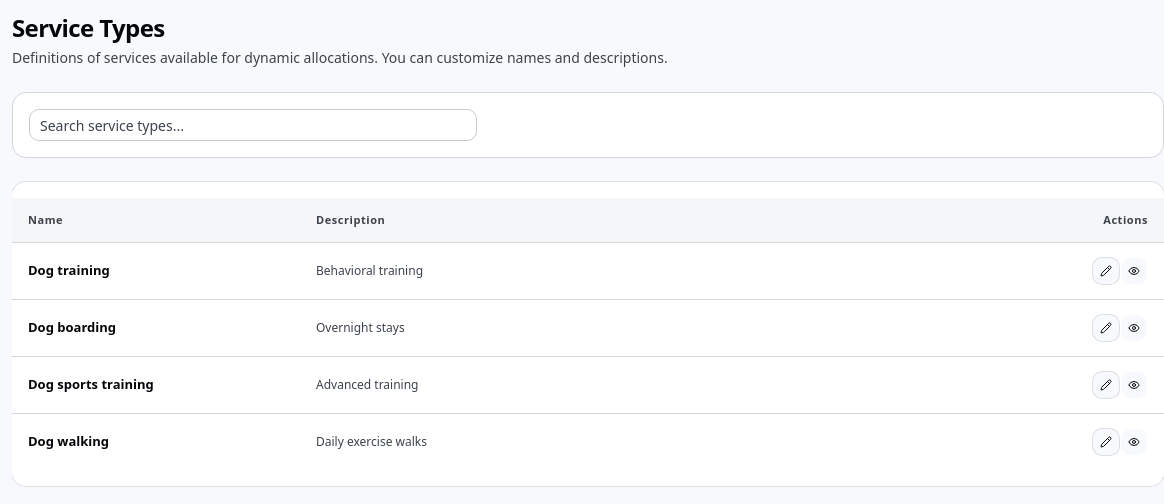
Test: ServiceTypesTable Component › should filter service types based on search input (case insensitive)
// Search for "walk"
In the field with placeholder "Search service types...": (253, 125) [29, 109, 477, 141], type "walk"
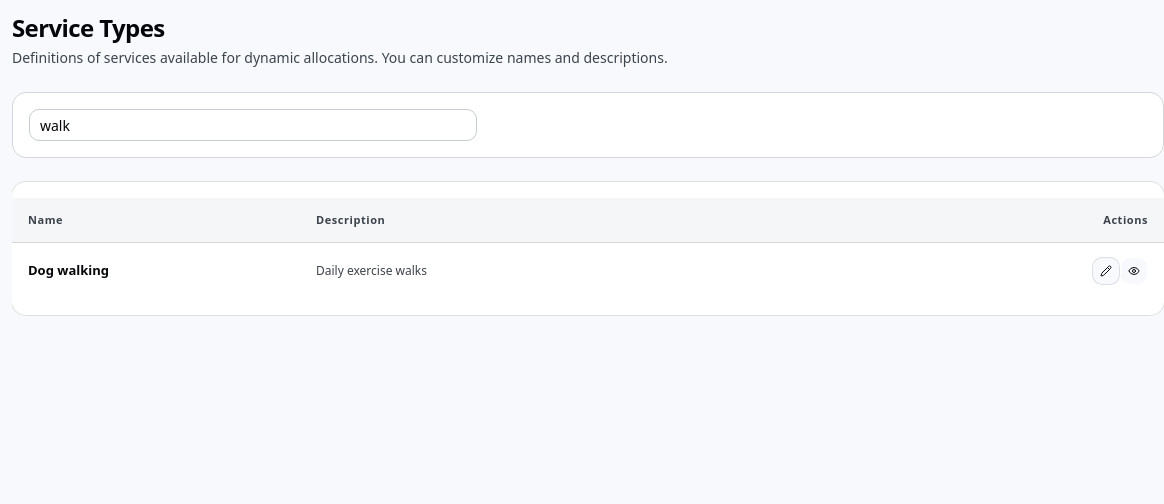
Check: the text "Dog walking" is shown, box [28, 261, 109, 279]
Check: the text "Dog boarding" is gone
Check: the text "Dog training" is gone
